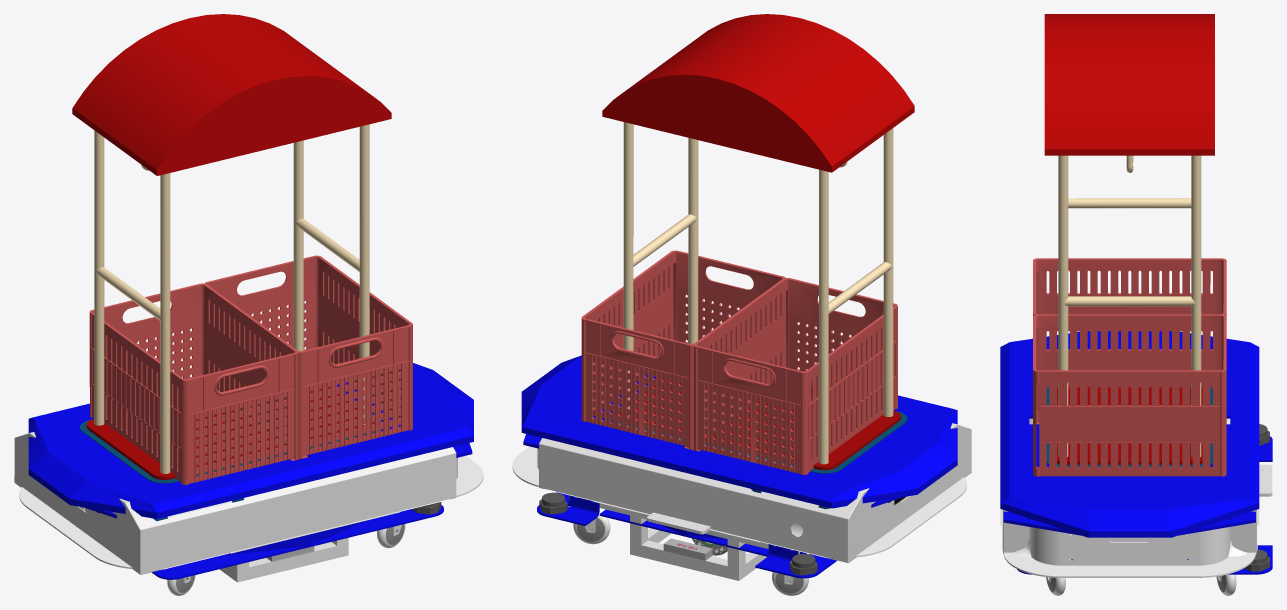
The model's file is amir-2023-canopy.glb.
3 renders of one model, left to right at view 1: azimuth 30°, elevation 25°; view 2: azimuth 150°, elevation 25°; view 3: azimuth 270°, elevation 25°, orthographic. The views are drawn at different scales.
Parts seen in each view (by area): view 1: hotel_carriage-1, plastic crate-2, plastic crate-1, final_cover-1, Cover Assymbly-1/CoverTop Chamfer Front-2, Cover Assymbly-1/MirrorMirrorCoverTop Chamfer Mesh-5, Structure-1, Cover Assymbly-1/Cover Side Side ASSY-2/CoverTop Chamfer-4, Cover Assymbly-1/Cover Side Side ASSY-2/CoverTop Chamfer-6, Cover Assymbly-1/Cover Side Side ASSY-2/CoverTop Chamfer - C, Side Assy UI-1/Side Cover Camera-1, Cover Assymbly-1/Cover Side Side ASSY-2/CoverTop Chamfer2-7 (+14 smaller); view 2: hotel_carriage-1, plastic crate-2, plastic crate-1, final_cover-1, Structure-1, Cover Assymbly-1/CoverTop Chamfer Front-2, Cover Assymbly-1/MirrorCoverTop Chamfer Mesh-4, Cover Assymbly-1/Cover Side Side ASSY-1/CoverTop Chamfer-6, Cover Assymbly-1/Cover Side Side ASSY-1/CoverTop Chamfer-4, Cover Assymbly-1/Cover Side Side ASSY-1/CoverTop Chamfer - C, Side Assy UI-1/Side Cover Camera-1, Cover Assymbly-1/Cover Side Side ASSY-1/CoverTop Chamfer2-6 (+15 smaller); view 3: hotel_carriage-1, plastic crate-1, plastic crate-2, Side Assy UI-1/Side Cover Camera-2, Cover Assymbly-1/CoverTop Chamfer Front-1, Cover Assymbly-1/CoverTop Chamfer Mesh-1, Cover Assymbly-1/MirrorCoverTop Chamfer Mesh-3, Side Assy UI-1/Curve-4, Side Assy UI-1/Curve-2, Cover Assymbly-1/Cover Tetres - Corner-1, Cover Assymbly-1/Cover Tetres - Corner2-1, final_cover-1 (+17 smaller).
Boxes of the visible parts, left/top/right/bottom form: hotel_carriage-1: left=72, top=14, right=391, bottom=483; plastic crate-2: left=89, top=283, right=298, bottom=484; plastic crate-1: left=204, top=255, right=412, bottom=459; final_cover-1: left=14, top=432, right=456, bottom=574; Cover Assymbly-1/CoverTop Chamfer Front-2: left=28, top=449, right=104, bottom=504; Cover Assymbly-1/MirrorMirrorCoverTop Chamfer Mesh-5: left=69, top=476, right=157, bottom=518; Structure-1: left=219, top=538, right=348, bottom=582; Cover Assymbly-1/Cover Side Side ASSY-2/CoverTop Chamfer-4: left=363, top=424, right=438, bottom=464; Cover Assymbly-1/Cover Side Side ASSY-2/CoverTop Chamfer-6: left=174, top=473, right=250, bottom=510; Cover Assymbly-1/Cover Side Side ASSY-2/CoverTop Chamfer - C: left=270, top=450, right=344, bottom=487; Side Assy UI-1/Side Cover Camera-1: left=27, top=502, right=110, bottom=557; Cover Assymbly-1/Cover Side Side ASSY-2/CoverTop Chamfer2-7: left=420, top=417, right=473, bottom=457; hotel_carriage-1: left=602, top=14, right=914, bottom=473; plastic crate-2: left=693, top=278, right=897, bottom=474; plastic crate-1: left=581, top=250, right=785, bottom=450; final_cover-1: left=539, top=423, right=971, bottom=562; Structure-1: left=569, top=496, right=799, bottom=580; Cover Assymbly-1/CoverTop Chamfer Front-2: left=883, top=440, right=957, bottom=493; Cover Assymbly-1/MirrorCoverTop Chamfer Mesh-4: left=831, top=466, right=917, bottom=508; Cover Assymbly-1/Cover Side Side ASSY-1/CoverTop Chamfer-6: left=556, top=416, right=629, bottom=455; Cover Assymbly-1/Cover Side Side ASSY-1/CoverTop Chamfer-4: left=740, top=463, right=814, bottom=499; Cover Assymbly-1/Cover Side Side ASSY-1/CoverTop Chamfer - C: left=648, top=441, right=721, bottom=477; Side Assy UI-1/Side Cover Camera-1: left=877, top=492, right=959, bottom=545; Cover Assymbly-1/Cover Side Side ASSY-1/CoverTop Chamfer2-6: left=521, top=409, right=573, bottom=448; hotel_carriage-1: left=1044, top=14, right=1214, bottom=467; plastic crate-1: left=1033, top=314, right=1226, bottom=476; plastic crate-2: left=1033, top=258, right=1226, bottom=412; Side Assy UI-1/Side Cover Camera-2: left=1061, top=532, right=1197, bottom=577; Cover Assymbly-1/CoverTop Chamfer Front-1: left=1089, top=497, right=1170, bottom=537; Cover Assymbly-1/CoverTop Chamfer Mesh-1: left=1170, top=497, right=1259, bottom=537; Cover Assymbly-1/MirrorCoverTop Chamfer Mesh-3: left=1000, top=497, right=1088, bottom=537; Side Assy UI-1/Curve-4: left=1003, top=527, right=1061, bottom=577; Side Assy UI-1/Curve-2: left=1198, top=527, right=1255, bottom=577; Cover Assymbly-1/Cover Tetres - Corner-1: left=1153, top=476, right=1221, bottom=503; Cover Assymbly-1/Cover Tetres - Corner2-1: left=1037, top=476, right=1105, bottom=503; final_cover-1: left=1003, top=338, right=1256, bottom=554.
Size of the model in its own units: 1.38 by 1.63 by 0.799.
